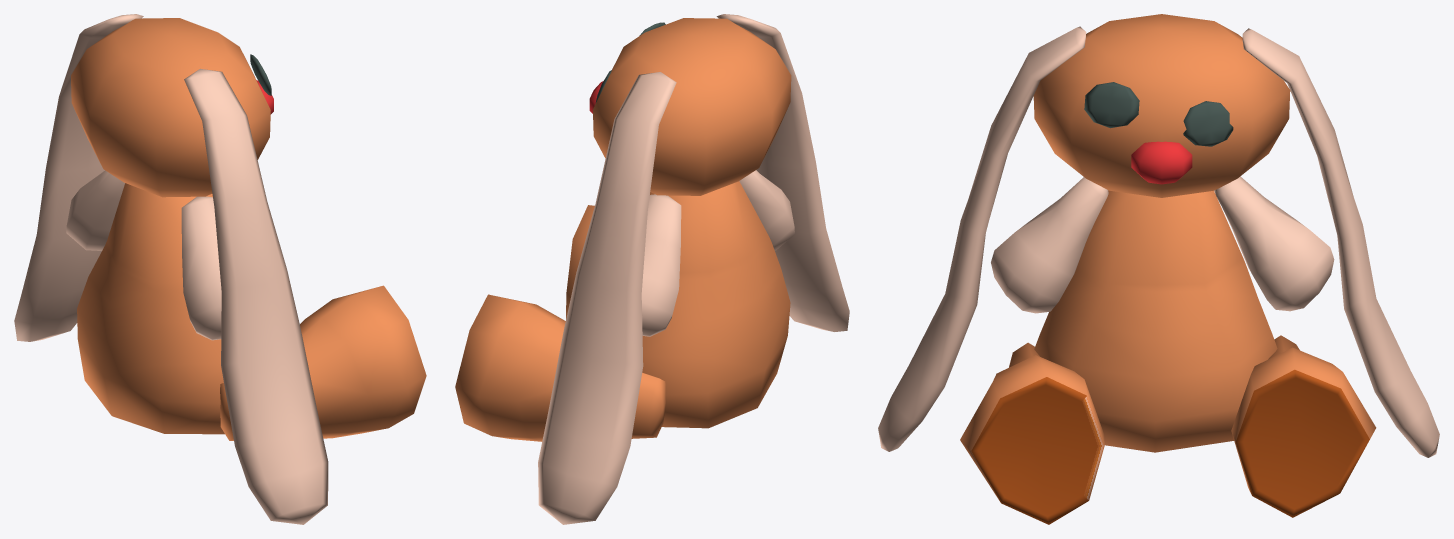
File: SM_Rabbit.fbx
3 renders of one model, left to right at view 1: azimuth 30°, elevation 25°; view 2: azimuth 150°, elevation 25°; view 3: azimuth 270°, elevation 25°, orthographic. The views are drawn at different scales.
Visible parts, largest first — view 1: SM_Rabbit; view 2: SM_Rabbit; view 3: SM_Rabbit.
Part boxes in pixels (x1,y1,x2,y2): SM_Rabbit: [14, 14, 426, 524]; SM_Rabbit: [455, 14, 849, 524]; SM_Rabbit: [878, 14, 1439, 524].
Bounding box in the file's own units: 19.26 × 35.44 × 29.57.
Materials: 1 (1 with a texture image).
